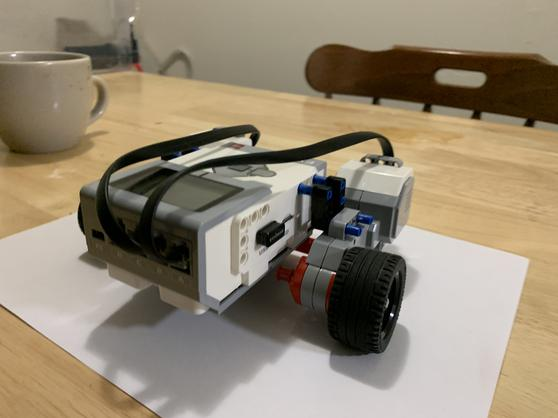robot: (72, 115, 424, 368)
